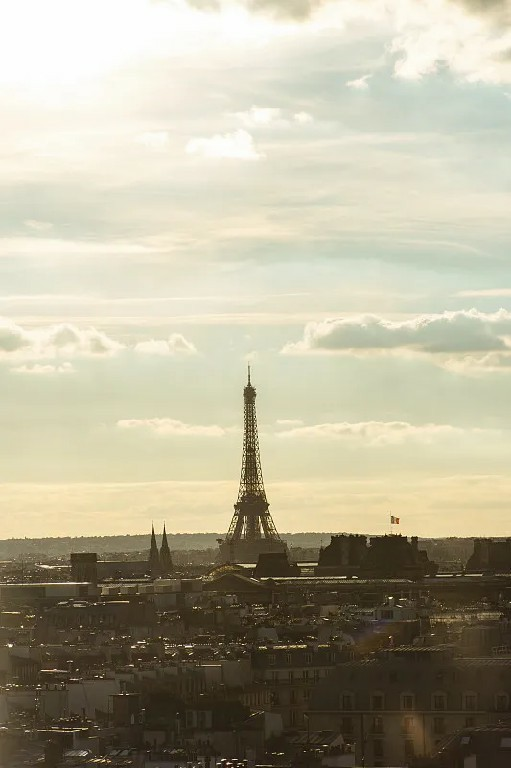Eiffel: (216, 360, 289, 566)
